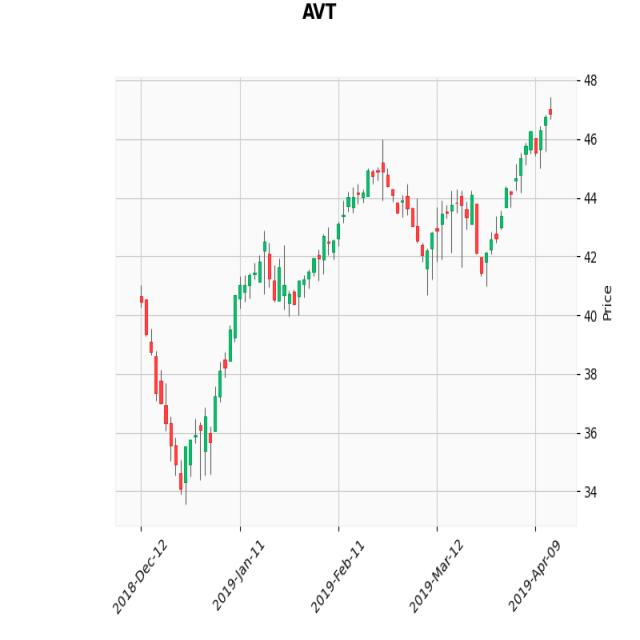Double-Bottom: (391, 163, 525, 290), (154, 345, 234, 506)
